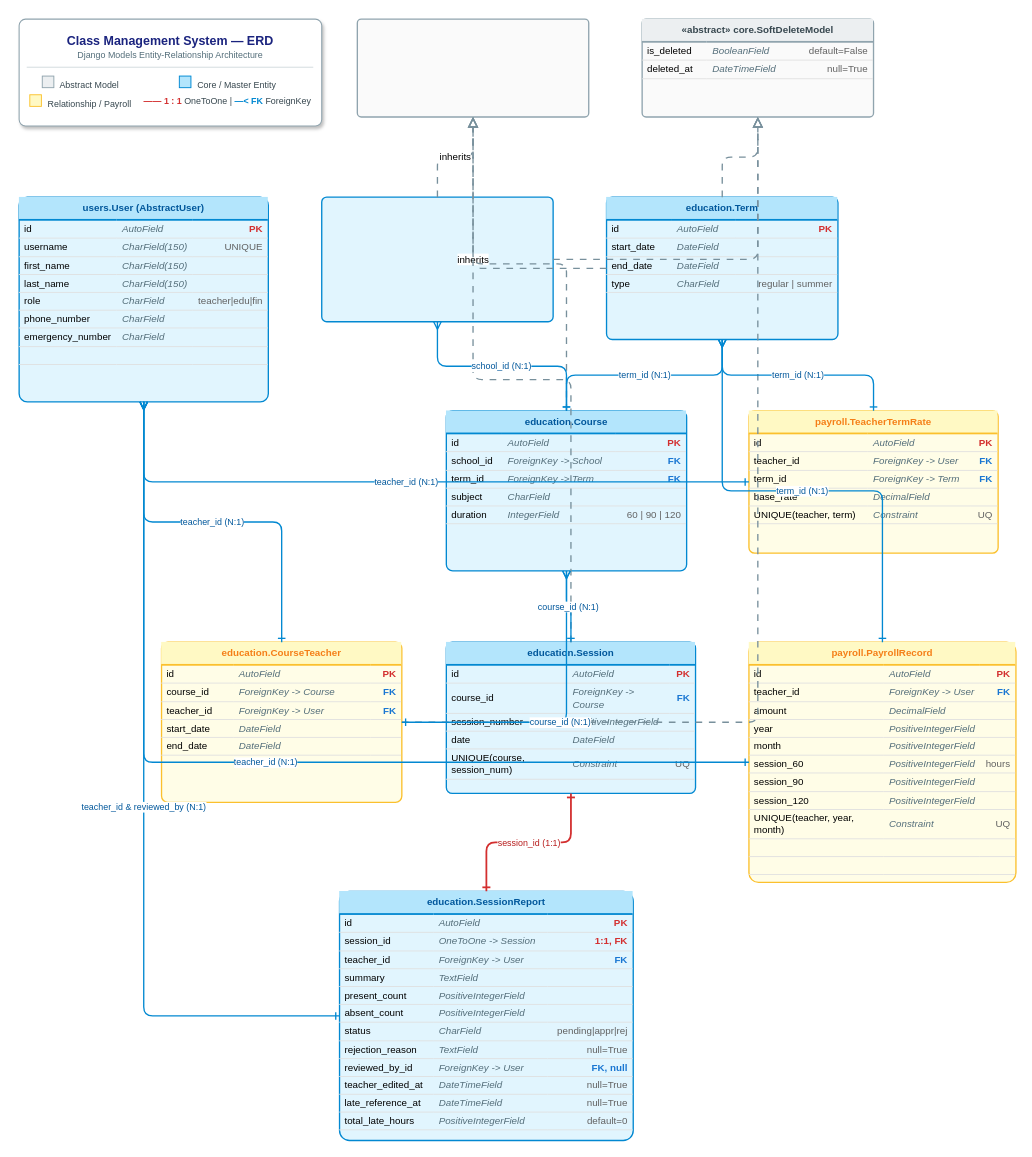
This 1032x1157 diagram has some shape labels left out. The centre of each missing label's shape, as x and y in pixels:
"education.School id AutoField PK name CharField address CharField" goes at [437,259].
"«abstract» core.BaseModel created_at DateTimeField updated_at DateTimeField" goes at [472,67].
